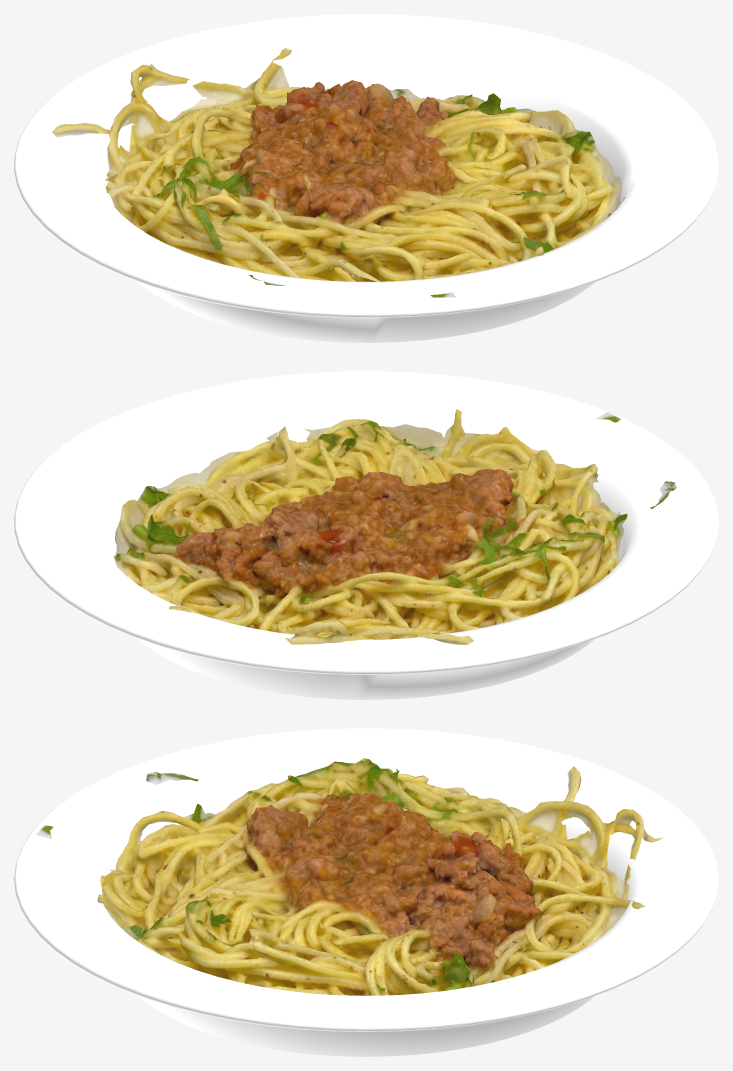
The model's file is EspargueteBologneseKid.glb.
3 renders of one model, top to bottom at view 1: azimuth 30°, elevation 25°; view 2: azimuth 150°, elevation 25°; view 3: azimuth 270°, elevation 25°, orthographic.
Visible parts, largest first — view 1: Circle, Mesh_0; view 2: Circle, Mesh_0; view 3: Mesh_0, Circle.
Boxes of the visible parts, x1,y1,x2,y2 form: Circle: (14, 14, 718, 342); Mesh_0: (52, 48, 624, 297); Circle: (14, 371, 718, 699); Mesh_0: (114, 409, 676, 644); Mesh_0: (36, 758, 662, 995); Circle: (14, 728, 718, 1056).
Size of the model in its own units: 0.1942 by 0.0372 by 0.1942.
Materials: 2 (1 with a texture image).
